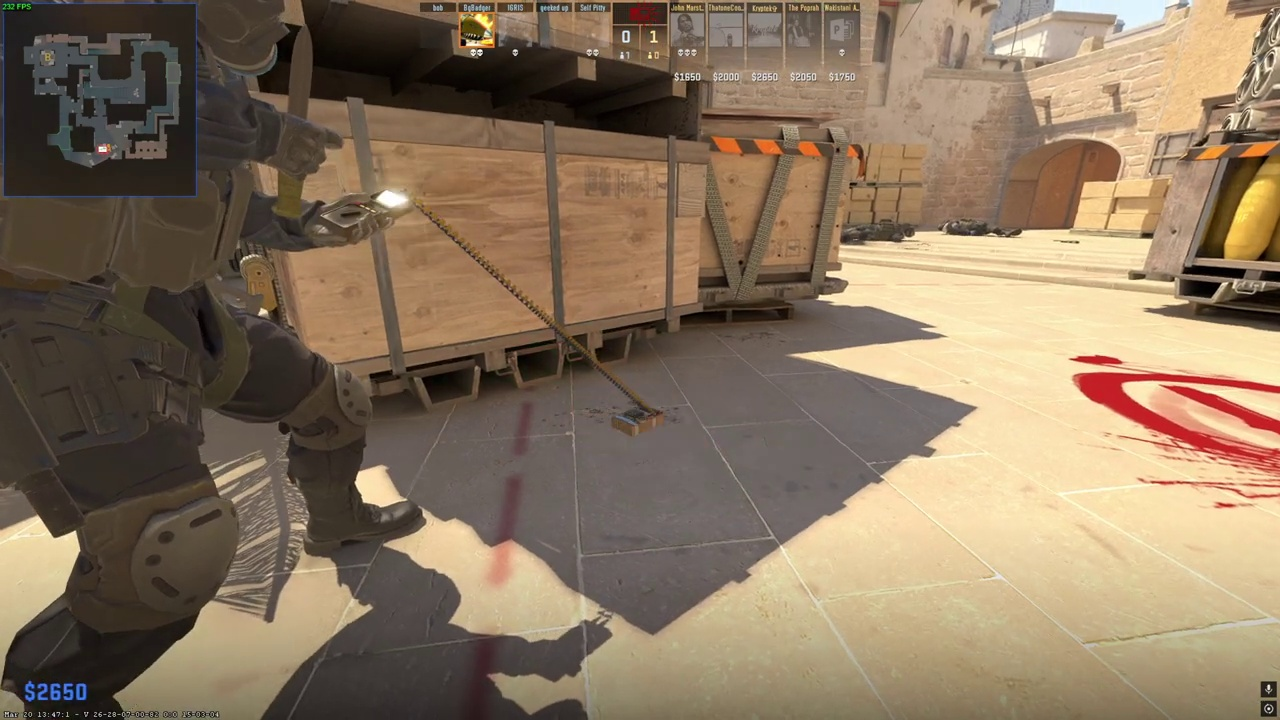CT: (0, 0, 384, 720)
